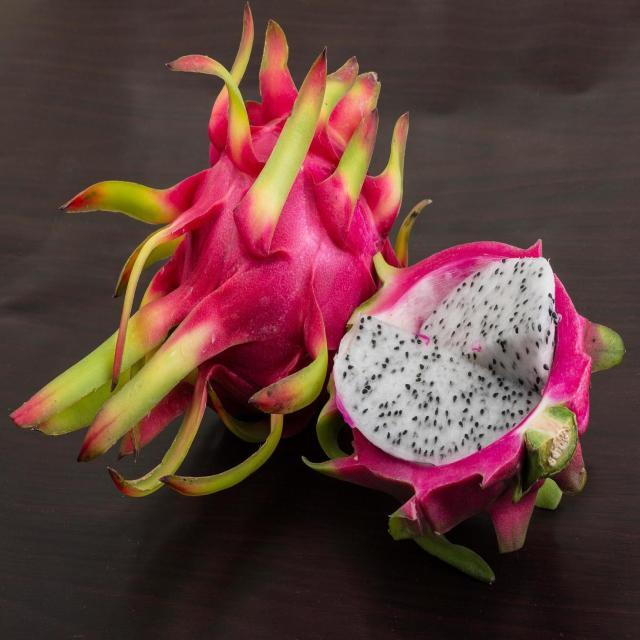dragon-fruit: (331, 238, 593, 517), (178, 115, 391, 414)
